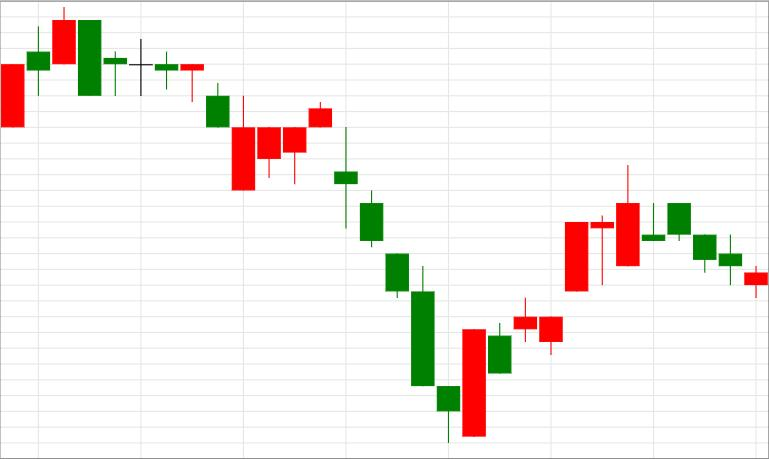hammer_rise: (334, 128, 461, 442)
